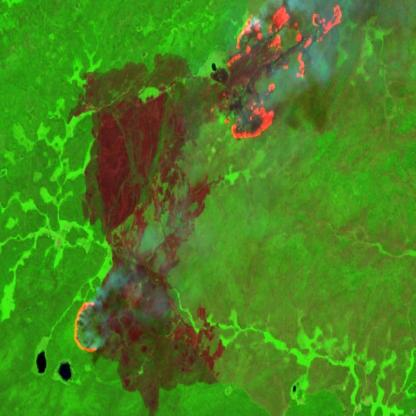fire: (216, 0, 348, 145), (70, 294, 108, 360)
